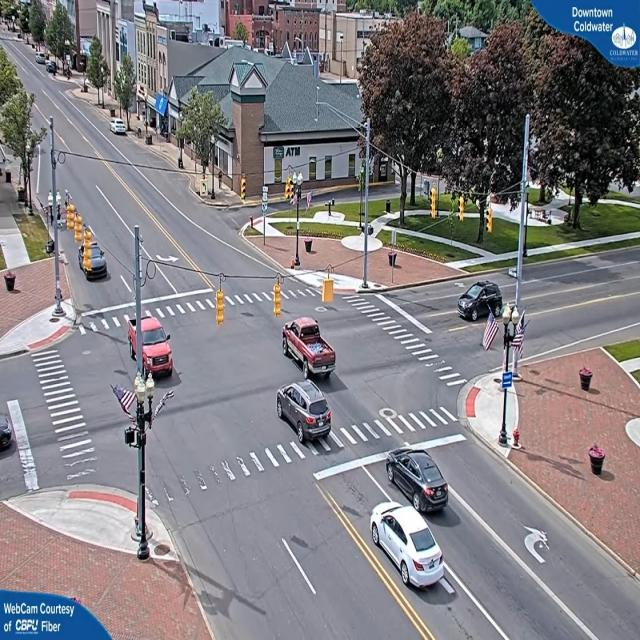car: (372, 500, 446, 592), (387, 451, 450, 516), (276, 382, 333, 440), (282, 320, 337, 380), (460, 282, 505, 323), (110, 119, 128, 136)
